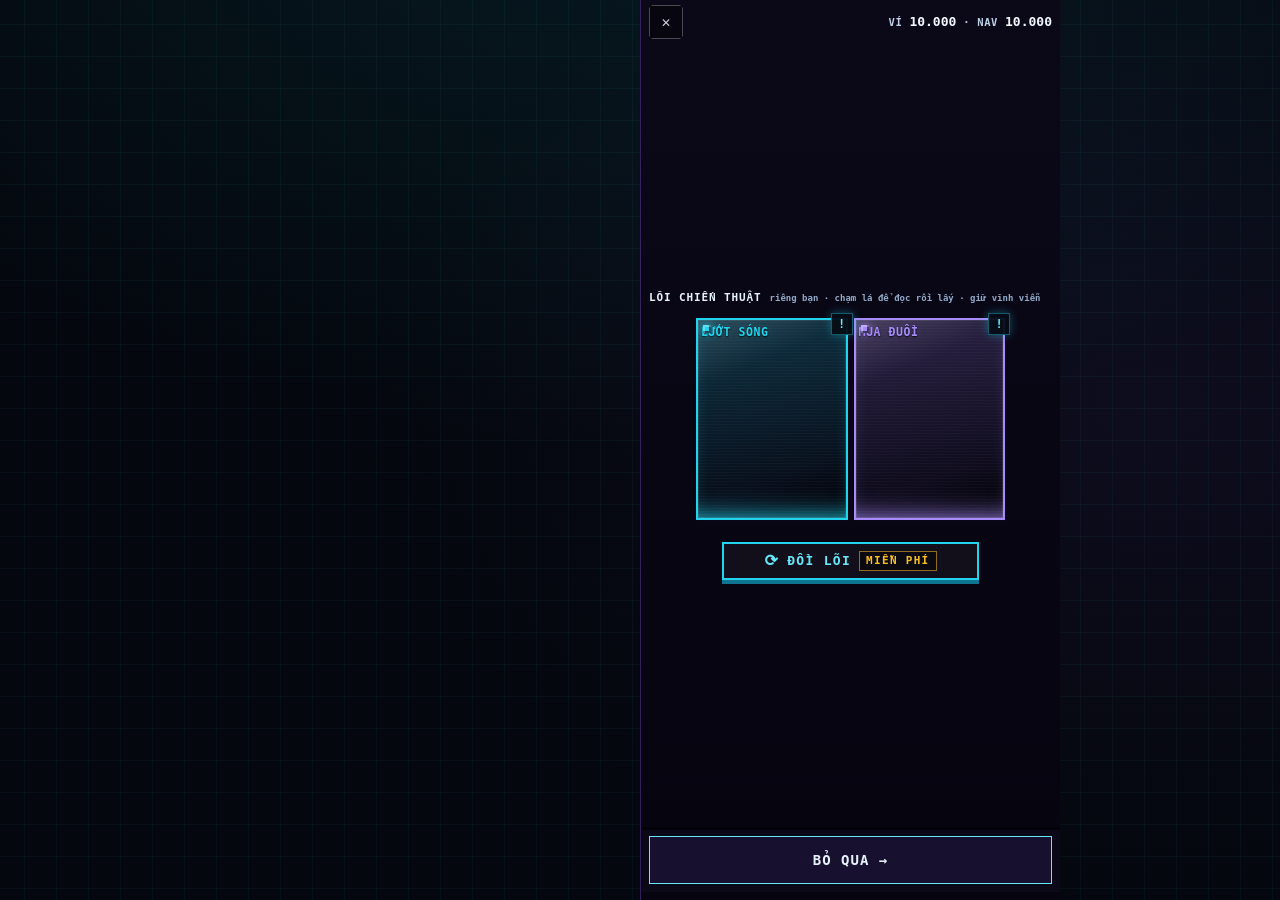
Test: I. vòng LÕI mở vào MÀN CHỌN › ⭐ D526 — "⟳ ĐỔI LÕI · FREE" nằm TRONG khung lõi, dưới hai lá (founder: "đổi lõi ở dưới 2 lõi"); đáy chỉ còn nút chính
The image size is (1280, 900).
Click the button "⟳ ĐỔI LÕI MIỄN PHÍ" at x=850, y=561, box x1=722 y1=542 x2=979 y2=580
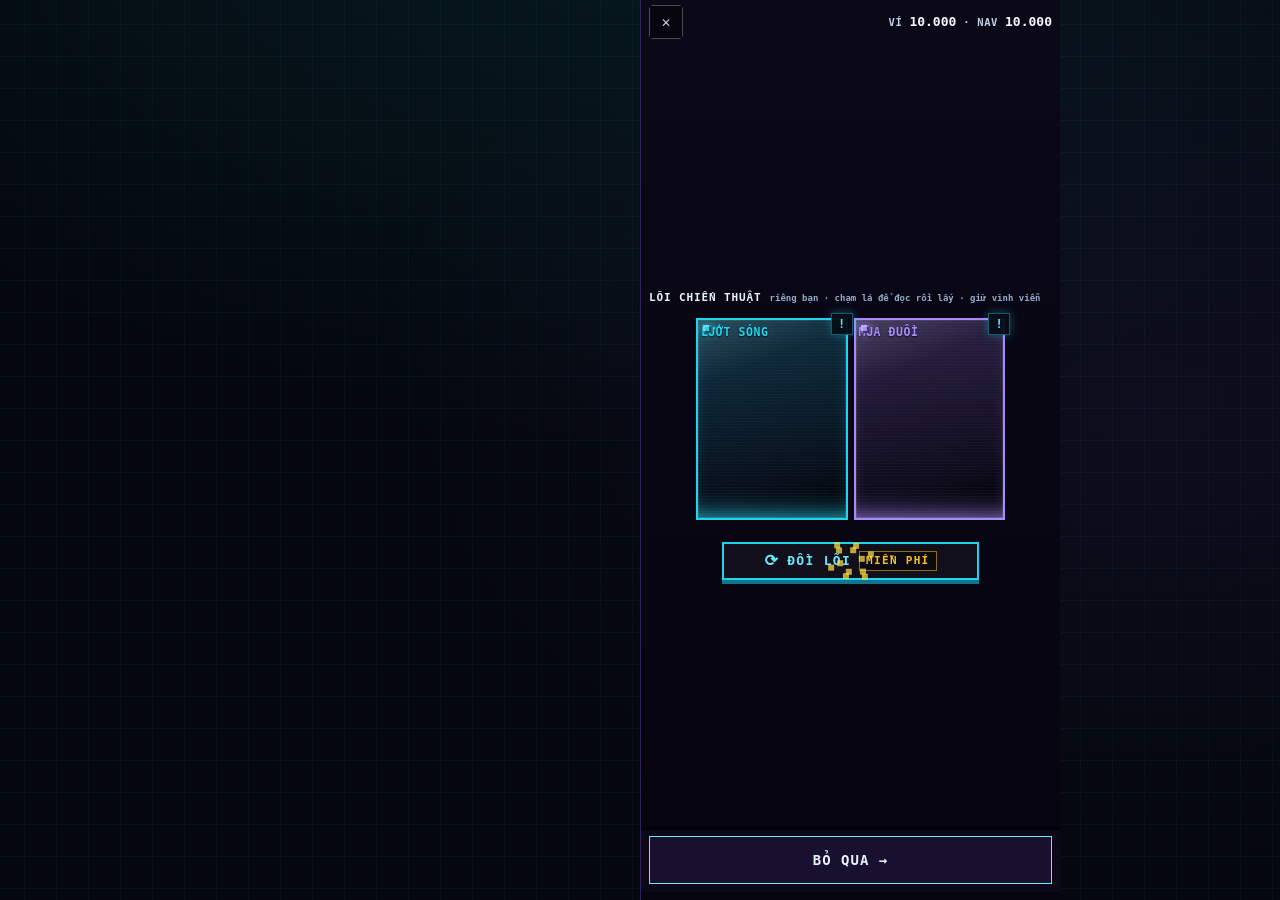
Click the button "BỎ QUA →" at x=850, y=860, box x1=649 y1=836 x2=1052 y2=884
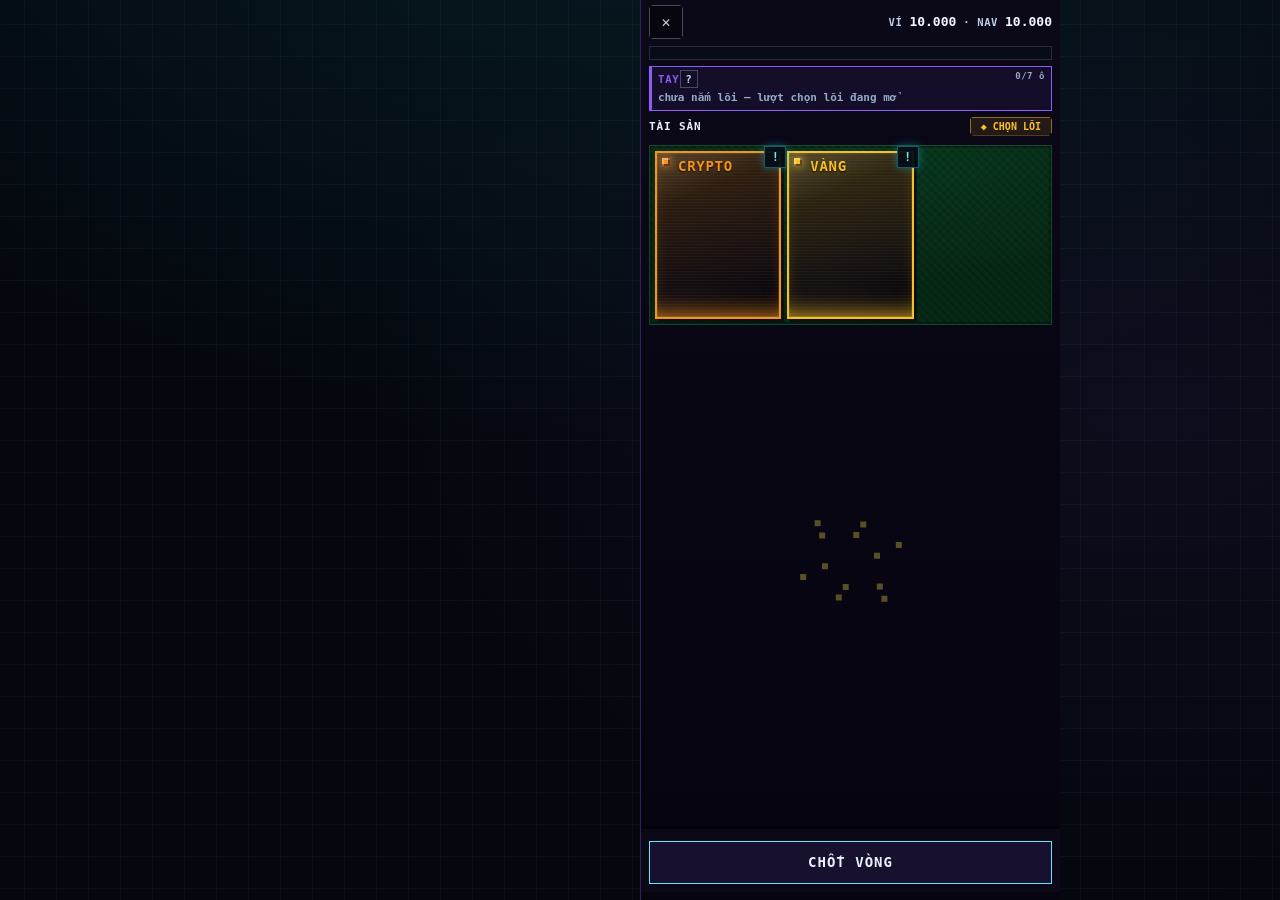
Check: the element showing "TÀI SẢN ◆ CHỌN LÕI CRYPTO ! VÀNG !" is shown, box x1=649 y1=116 x2=1052 y2=325
Check: the element showing "CHỐT VÒNG" is shown, box x1=641 y1=829 x2=1060 y2=892
